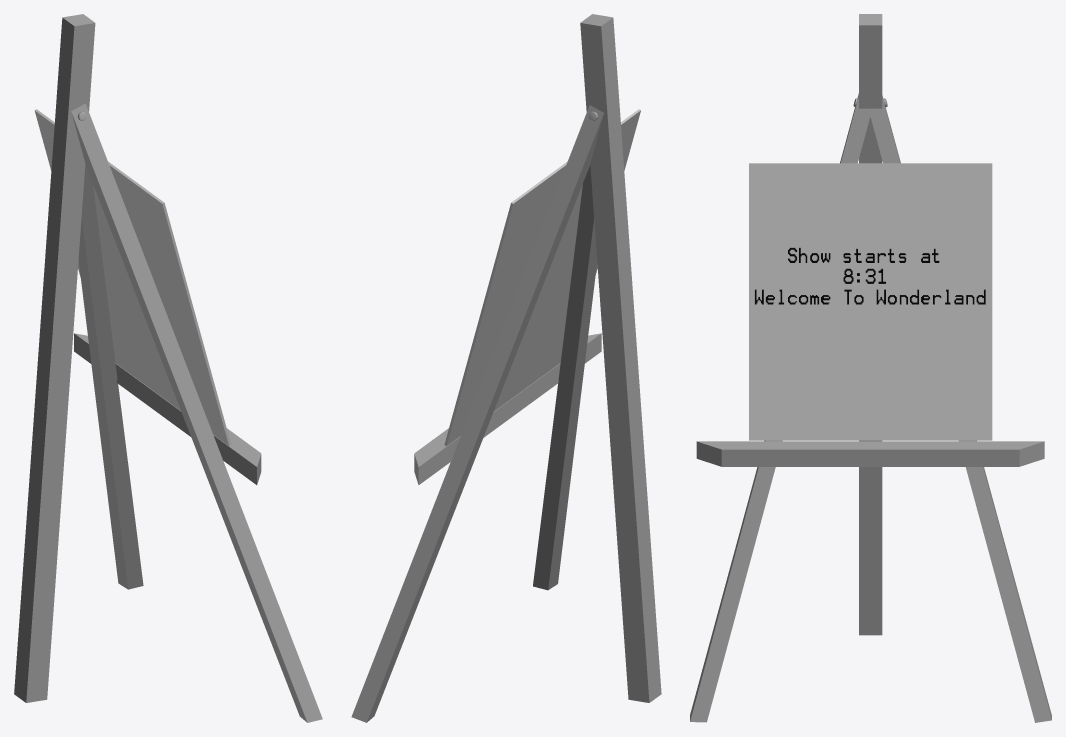
Rendered from WW_Easel_Prop_02.fbx.
3 renders of one model, left to right at view 1: azimuth 30°, elevation 25°; view 2: azimuth 150°, elevation 25°; view 3: azimuth 270°, elevation 25°, orthographic. The views are drawn at different scales.
Parts seen in each view (by area): view 1: Easel_GEO_3, Easel_GEO_2, Easel_Sign_GEO_01, Easel_GEO_1; view 2: Easel_GEO_3, Easel_GEO_2, Easel_Sign_GEO_01, Easel_GEO_1; view 3: Easel_Sign_GEO_01, Easel_GEO_3, Easel_GEO_1, Easel_GEO_2.
Part boxes in pixels (x1,y1,x2,y2): Easel_GEO_3: [71, 103, 322, 722]; Easel_GEO_2: [14, 14, 95, 702]; Easel_Sign_GEO_01: [34, 109, 231, 445]; Easel_GEO_1: [74, 333, 261, 484]; Easel_GEO_3: [351, 105, 603, 722]; Easel_GEO_2: [580, 14, 661, 702]; Easel_Sign_GEO_01: [444, 109, 640, 445]; Easel_GEO_1: [414, 333, 601, 484]; Easel_Sign_GEO_01: [749, 163, 992, 440]; Easel_GEO_3: [690, 93, 1051, 722]; Easel_GEO_1: [696, 441, 1044, 466]; Easel_GEO_2: [859, 14, 882, 635].
Bounding box in the file's own units: 51.04 × 155 × 80.16.
2 materials, 1 textured.
